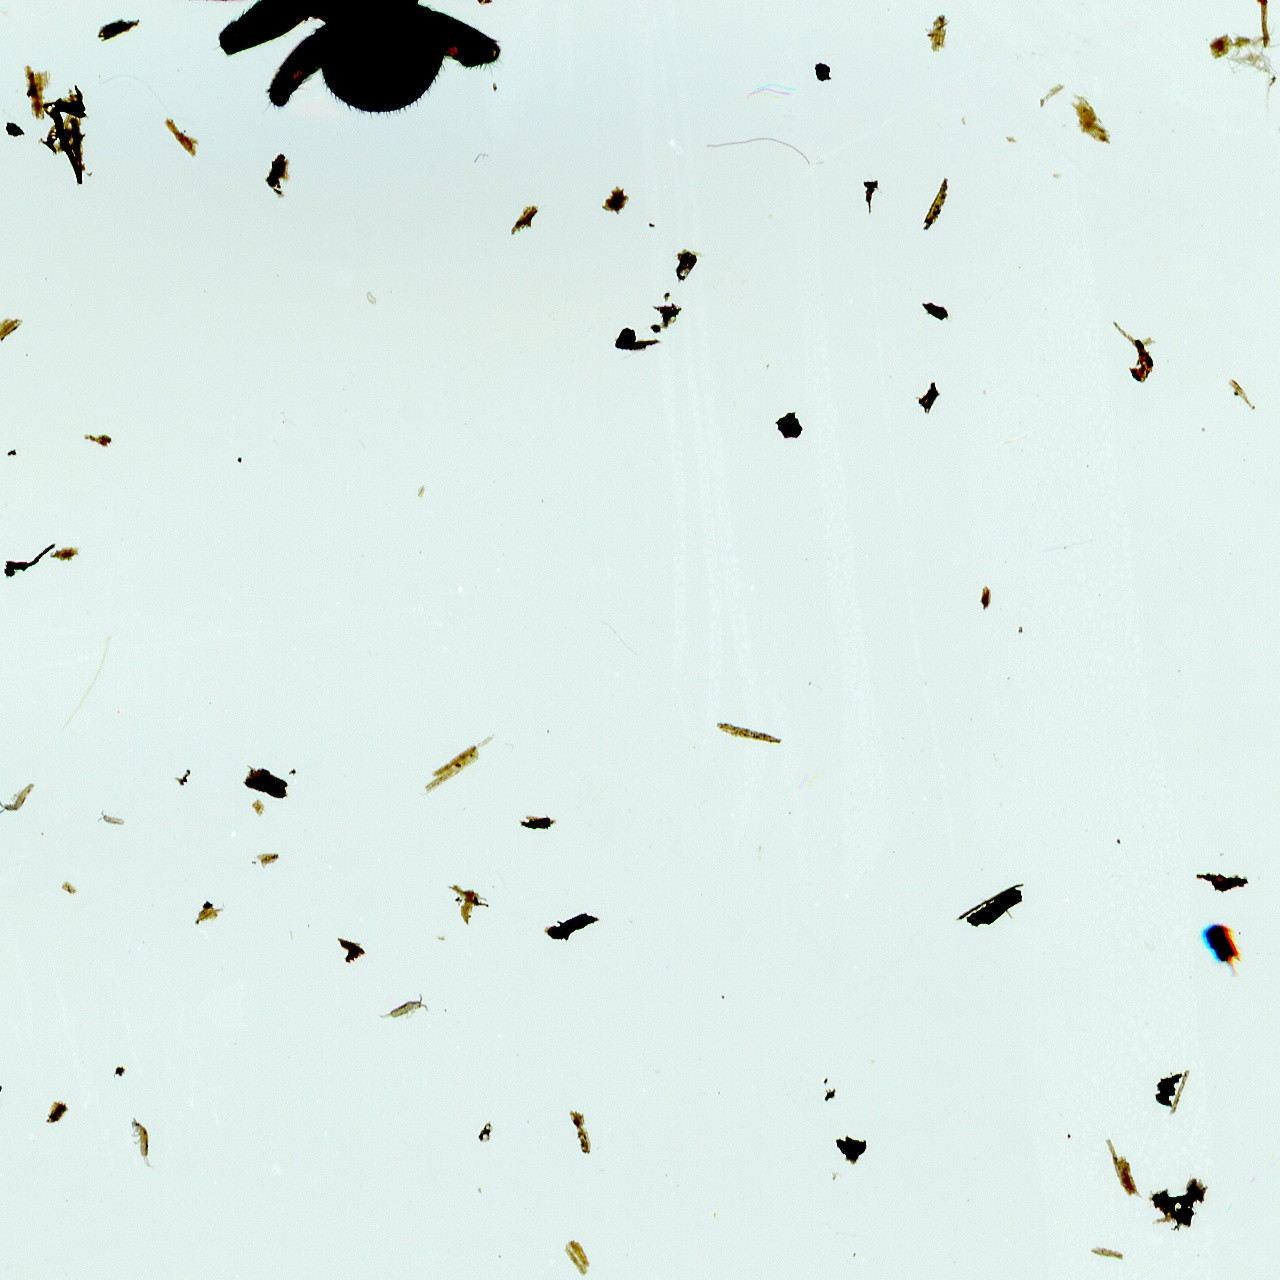arthropod: (113, 0, 607, 172), (369, 983, 433, 1030), (130, 1114, 159, 1172), (0, 778, 40, 818), (90, 802, 132, 838)
